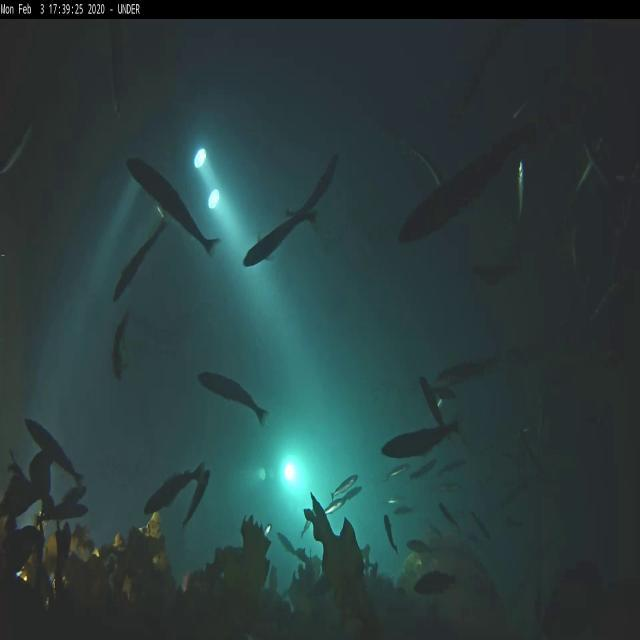fish: (403, 128, 522, 255), (122, 154, 216, 256), (27, 410, 85, 490), (111, 225, 163, 307), (243, 212, 314, 270), (199, 370, 269, 426), (142, 458, 204, 518), (382, 419, 460, 466), (294, 156, 338, 218), (181, 468, 211, 548), (572, 134, 610, 192), (410, 134, 438, 187), (442, 358, 496, 384), (514, 158, 528, 232), (276, 530, 308, 562), (412, 574, 456, 595), (420, 378, 442, 419), (332, 468, 357, 499), (381, 514, 400, 554), (438, 500, 461, 530), (470, 511, 490, 537), (302, 507, 320, 535), (115, 316, 122, 383), (319, 497, 341, 518), (344, 481, 364, 504), (422, 460, 438, 482), (407, 542, 430, 556), (397, 508, 418, 520), (262, 522, 273, 542), (389, 468, 410, 478), (384, 494, 401, 506)
